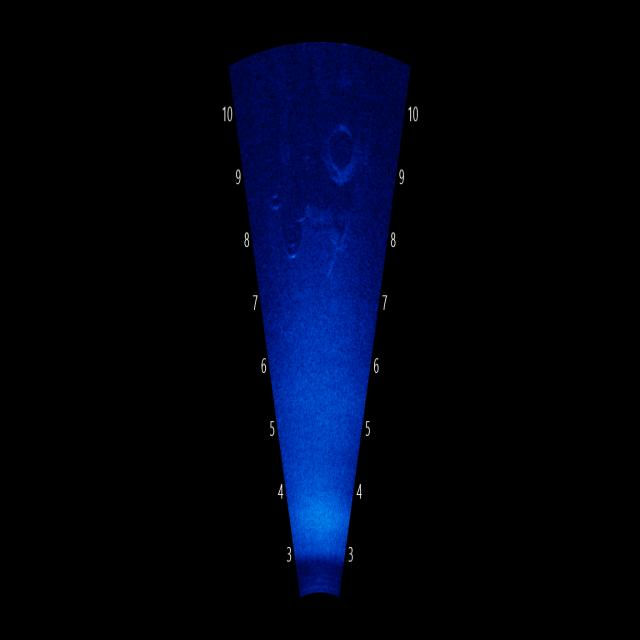circle: (318, 98, 374, 190), (275, 210, 310, 272), (256, 155, 290, 217)
